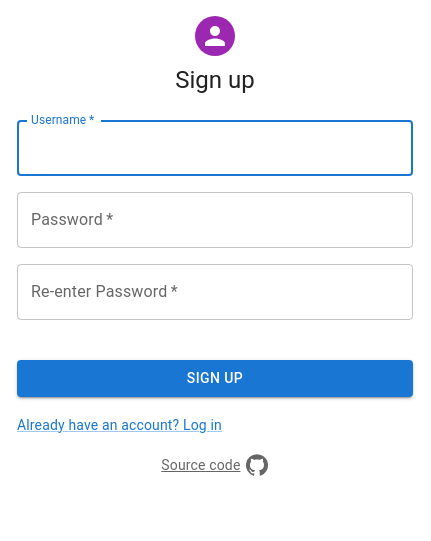
Signup Page tests › should show errors on password field when no password is given
Type "user" into the field with test id "username-field" at (215, 148), box x1=17 y1=120 x2=413 y2=176
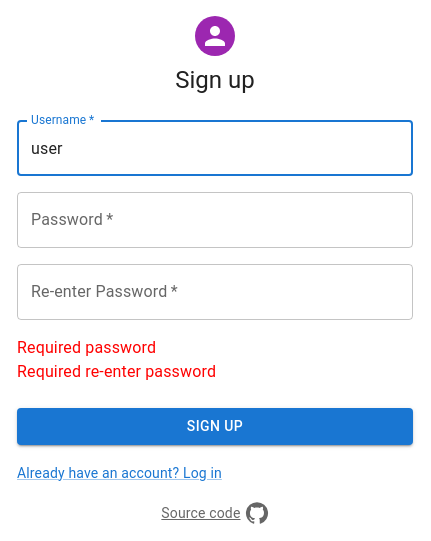
Expected: the text "Required password" is shown, x1=17 y1=338 x2=156 y2=357
Expected: the text "Required re-enter password" is shown, x1=17 y1=362 x2=216 y2=381
